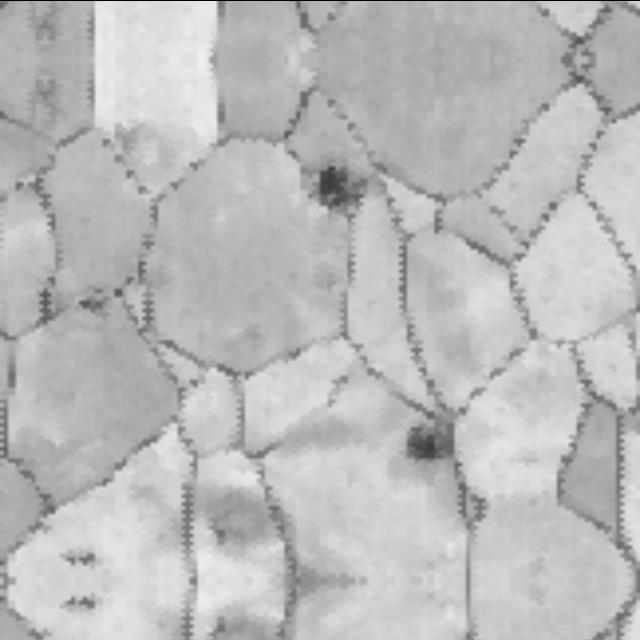good_void: (292, 146, 384, 236), (198, 479, 273, 554), (400, 406, 465, 474), (201, 610, 273, 640), (71, 291, 117, 316), (58, 547, 99, 570), (58, 592, 99, 615)
